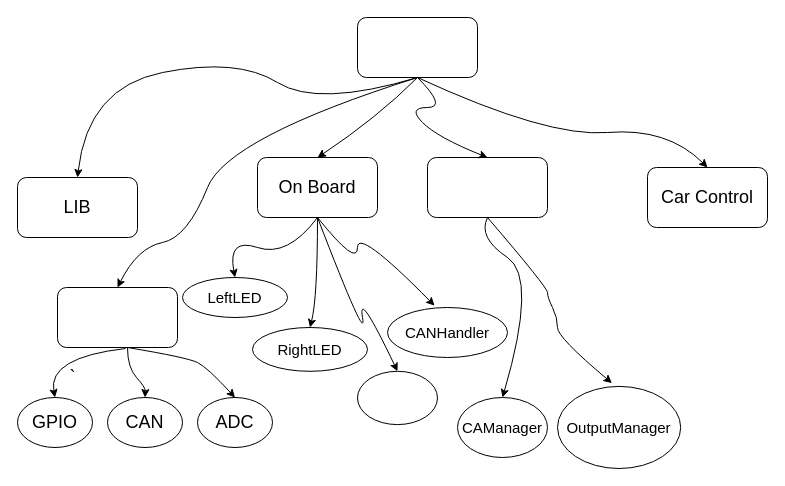
This 785x486 diagram has some shape labels left out. The centre of each missing label's shape, as x and y in pixels:
"Buzzer" goes at point (397, 397).
"ECU 02" goes at point (417, 47).
"MCAL" goes at point (117, 317).
"OS" goes at point (487, 187).
